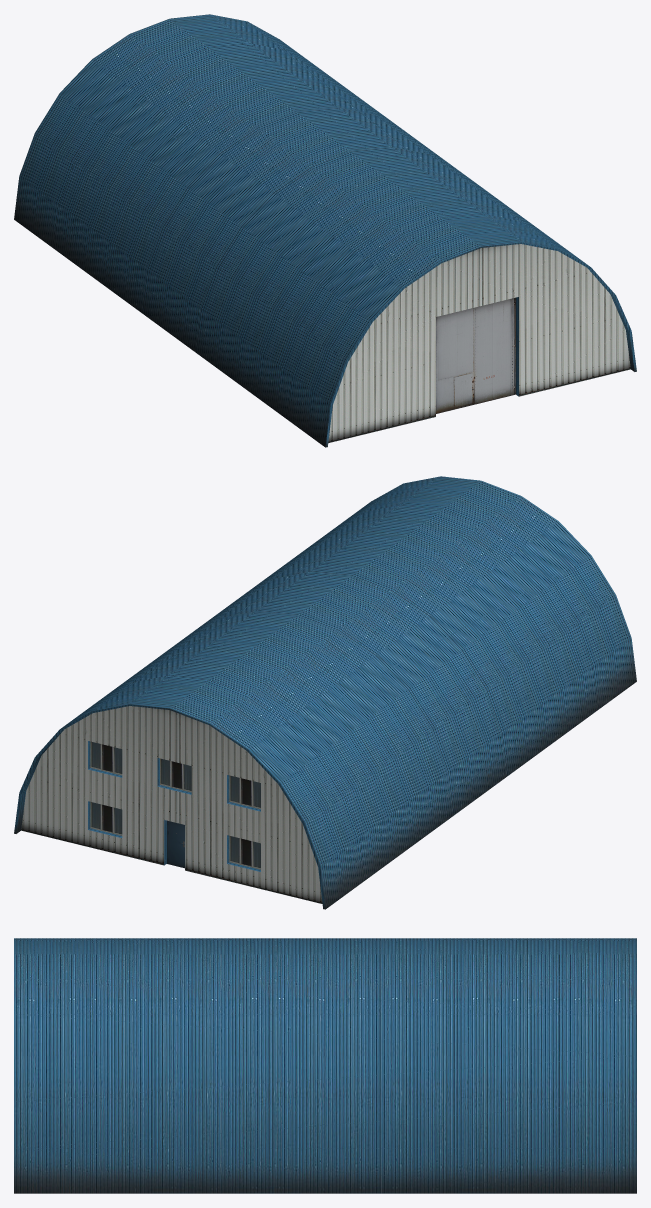
The model's file is hangar_6.glb.
The picture shows the model from 3 angles, top to bottom: view 1: azimuth 30°, elevation 25°; view 2: azimuth 150°, elevation 25°; view 3: azimuth 270°, elevation 25°; orthographic projection.
Visible parts, largest first — view 1: Cylinder001; view 2: Cylinder001; view 3: Cylinder001.
Part boxes in pixels (<box>): Cylinder001: <box>14,14,636,447</box>; Cylinder001: <box>14,476,636,909</box>; Cylinder001: <box>14,938,636,1193</box>.
Bounding box in the file's own units: 15.01 × 7.5 × 26.
Materials: 1 (1 with a texture image).
